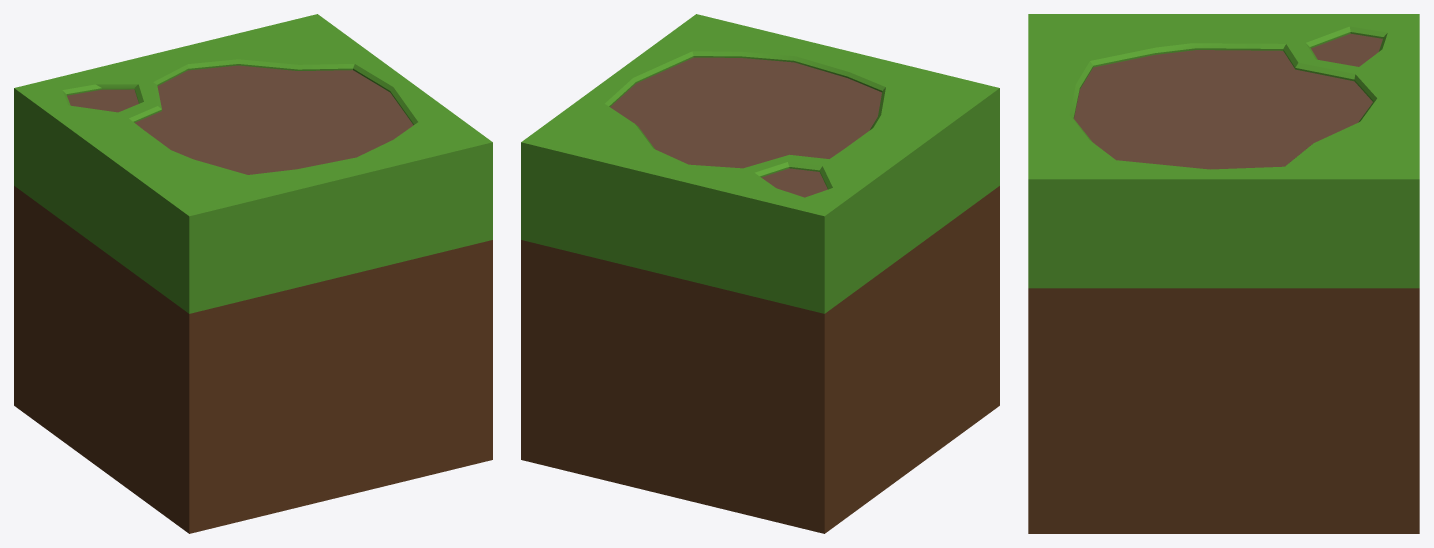
File: Grass-Ground 7.fbx
3 views of the same model, side by side, from view 1: azimuth 30°, elevation 25°; view 2: azimuth 150°, elevation 25°; view 3: azimuth 270°, elevation 25° (orthographic). The views are drawn at different scales.
Parts seen in each view (by area): view 1: Grass/Ground 7; view 2: Grass/Ground 7; view 3: Grass/Ground 7.
Part boxes in pixels (x1,y1,x2,y2): Grass/Ground 7: (14, 14, 492, 533); Grass/Ground 7: (521, 14, 999, 533); Grass/Ground 7: (1028, 14, 1419, 533).
Size of the model in its own units: 200 by 200 by 200.
